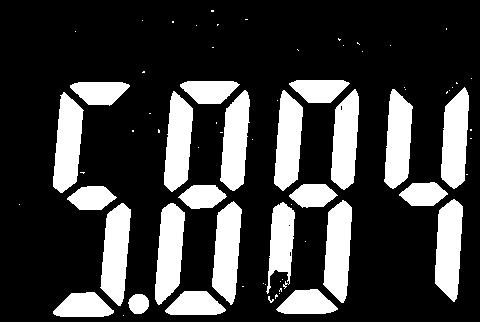4: (382, 89, 469, 303)
5: (50, 79, 130, 319)
8: (157, 77, 251, 318), (268, 77, 362, 317)
dot: (127, 292, 152, 316)
